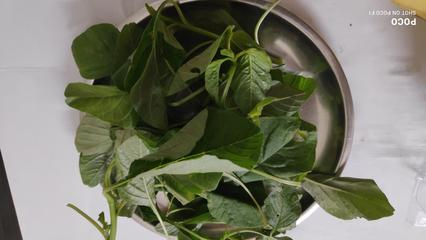spinach: (77, 40, 303, 218)
